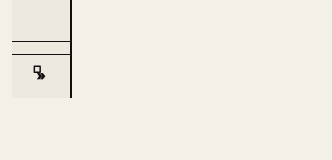
PasekBoczny › domyślnie jest zwinięty z dymkiem DOM i zapamiętuje rozwinięcie w localStorage
This screenshot has width=332, height=160.
Step 1. Click the button named "Rozwiń pasek" → click(41, 76), box x1=12 y1=54 x2=70 y2=98
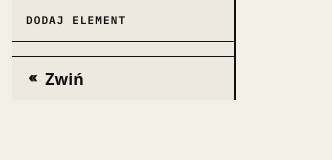
Now the navigation bar "Dodaj element" has attribute data-stan="rozwiniety", box x1=12 y1=0 x2=236 y2=100
